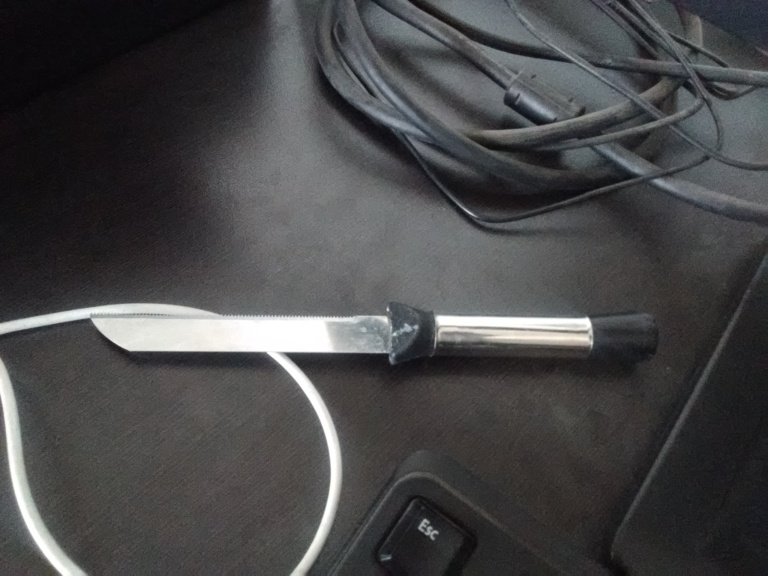knife: (85, 301, 657, 369)
